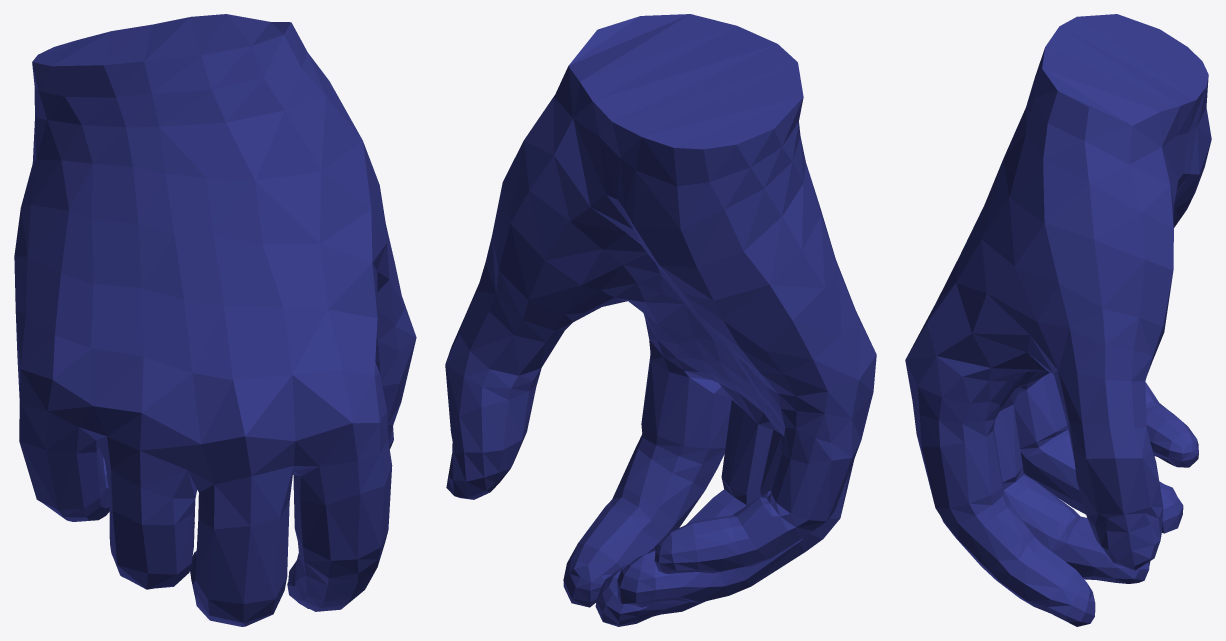
3 views of the same model, side by side, from view 1: azimuth 30°, elevation 25°; view 2: azimuth 150°, elevation 25°; view 3: azimuth 270°, elevation 25° (orthographic). The views are drawn at different scales.
Bounding box in the file's own units: 0.1075 × 0.1544 × 0.0824.
